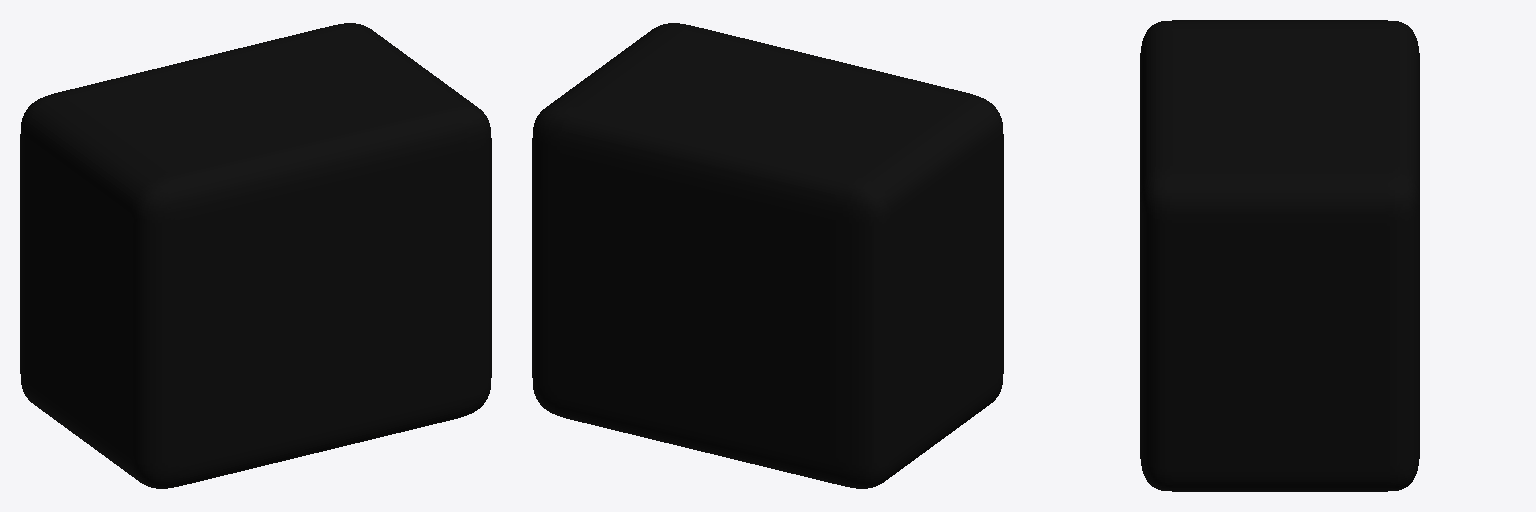
robot.urdf — block:
<robot name="block">
  <link name="block_base_link">
    <contact>
      <lateral_friction value="0.2"/>
      <rolling_friction value="0.001"/>
      <contact_cfm value="0.0"/>
      <contact_erp value="1.0"/>
    </contact>
    <inertial>
      <origin rpy="0 0 0" xyz="0 0 0"/>
      <mass value="0.05"/>
      <inertia ixx="0" ixy="0" ixz="0" iyy="0" iyz="0" izz="0"/>
    </inertial>
    <visual>
      <origin rpy="0 0 0" xyz="0 0 0"/>
      <geometry>
        <mesh filename="clevr_cube32.obj" scale="1 1 1"/>
      </geometry>
      <material name="tray_material">
        <color rgba="0.1 0.1 0.1 1"/>
      </material>
    </visual>
    <collision>
      <origin rpy="0 0 0" xyz="0 0 0"/>
      <geometry>
        <mesh filename="clevr_cube32.obj" scale="1 1 1"/>
      </geometry>
    </collision>
  </link>
</robot>

--- What the picture shows (computed from the rendered views, not written in the file) ---
3 views of the same robot in one strip: view 1: azimuth 30°, elevation 25°; view 2: azimuth 150°, elevation 25°; view 3: azimuth 270°, elevation 25° (orthographic).
Robot: block — 1 links, 0 joints (none); root link block_base_link; default pose: every joint at zero.
Visible links, largest first — view 1: block_base_link; view 2: block_base_link; view 3: block_base_link.
Link boxes in pixels (x1=…): block_base_link: x1=20, y1=23, x2=491, y2=488; block_base_link: x1=532, y1=23, x2=1003, y2=488; block_base_link: x1=1140, y1=20, x2=1419, y2=491.
Bounding box of the posed robot: 0.06 × 0.04 × 0.05 m (x, y, z).
1 mesh visuals loaded from 1 distinct referenced files (1 OBJ).